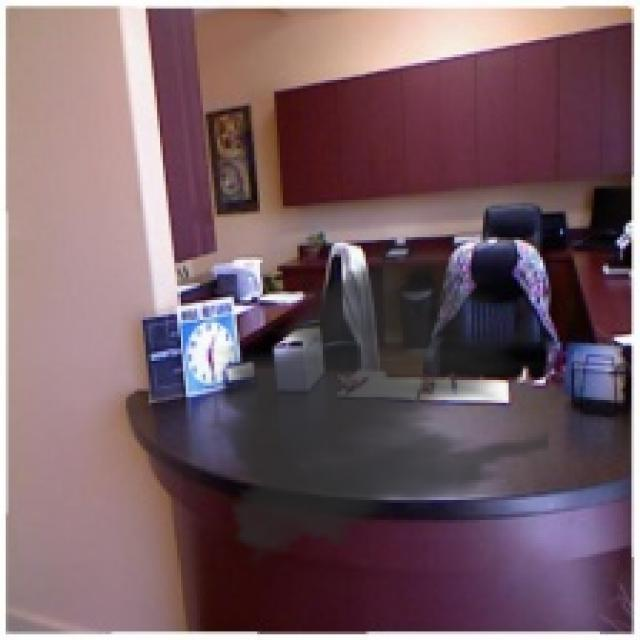smoke: (200, 228, 549, 572)
